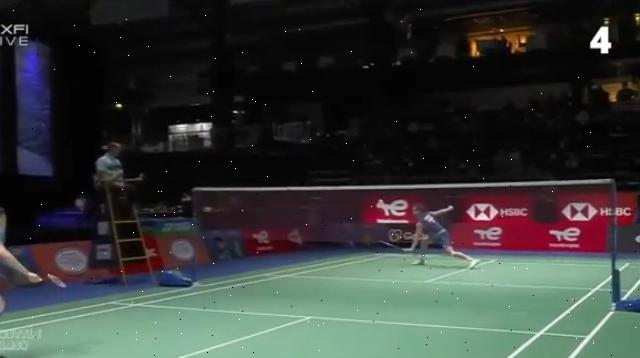Shuttlecock: (376, 196, 384, 208)
